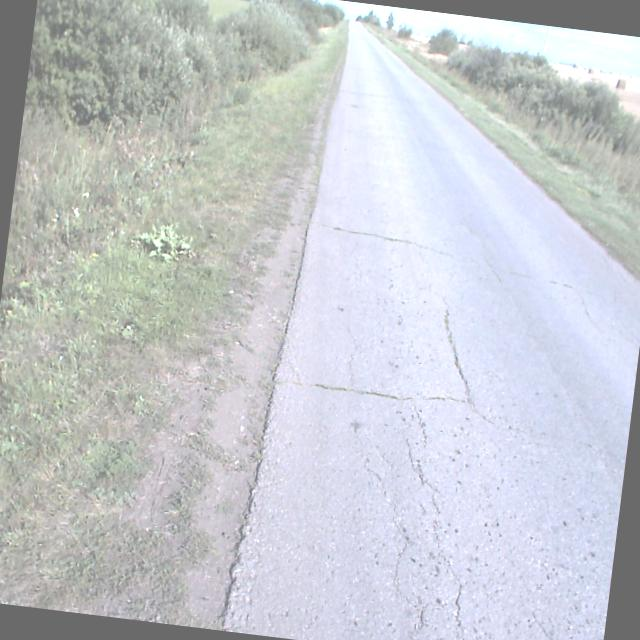road: (218, 20, 640, 640)
